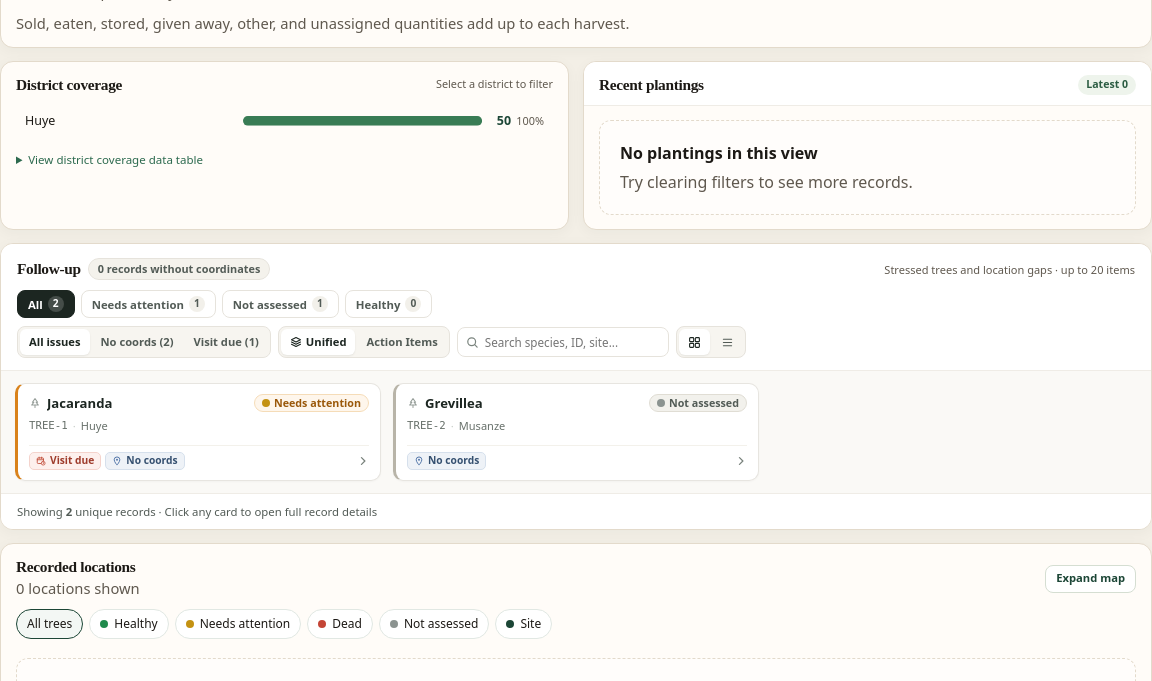
Test case: dashboard requests and role behavior › deduplicates follow-up items and toggles between unified, action items, search clear, and list view
(page scrolled)
expect the text "TREE-1" is shown once: met, box [29,418,68,434]
expect the number of buttons "Visit due (1)" is 2: met, box [184,329,268,355]; [29,452,101,470]
Note: Switching to Action Items expands to raw entries
Click the button "Action Items".
click(402, 342)  # box [358,329,447,355]
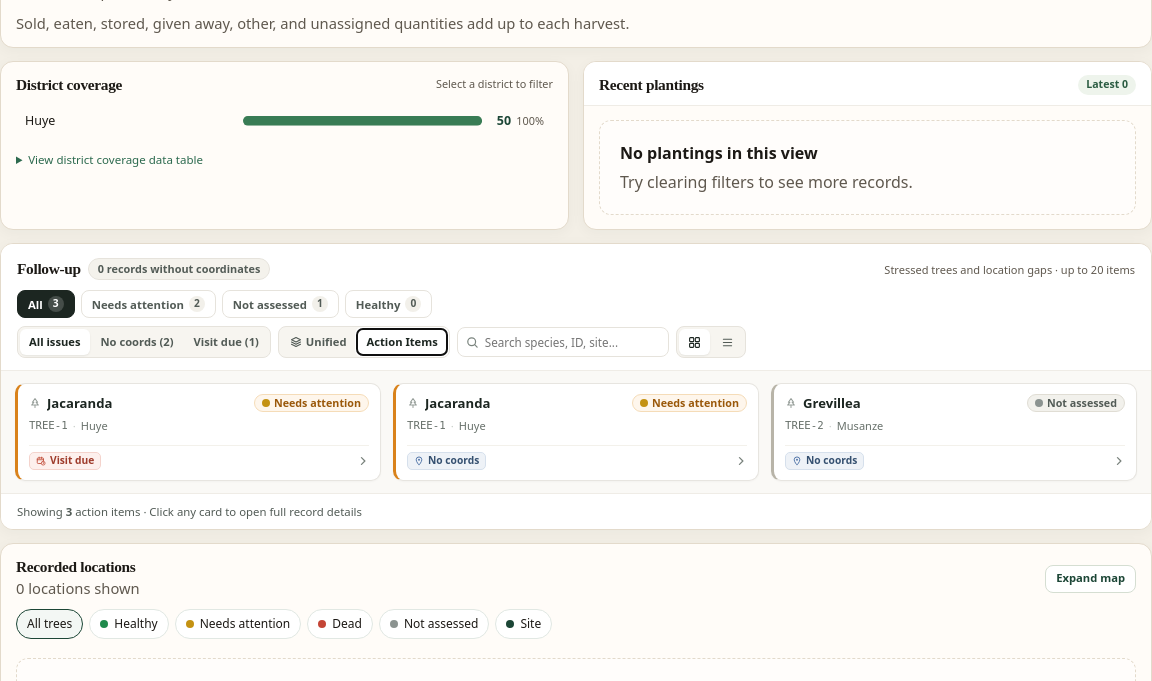
expect the text "TREE-1" is shown 2 times: met, box [29,418,68,434]; [407,418,446,434]
expect the text "action items · Click any card" shows "Showing 3 action items": met, box [17,503,362,520]
Note: Switching back collapses duplicates
Click the button "Unified".
click(318, 342)  # box [281,329,356,355]
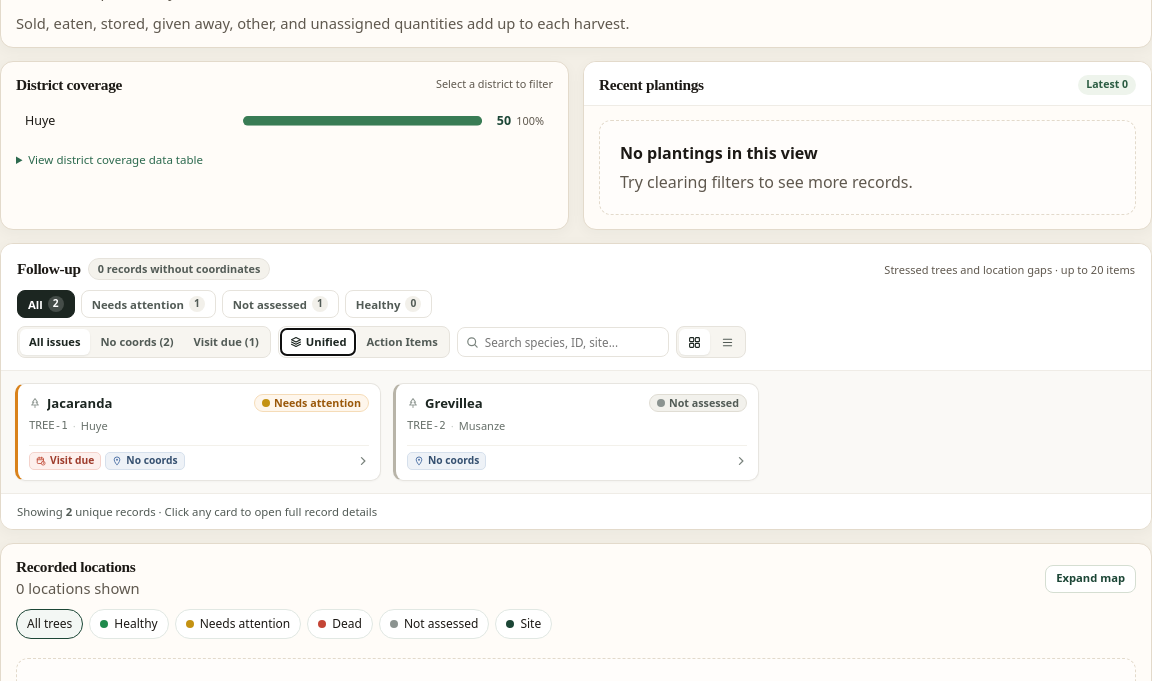
expect the text "TREE-1" is shown once: met, box [29,418,68,434]
Note: Search filters to Grevillea and inline clear restores all
Type "Musanze" into the field named "Search follow-up records".
click(563, 342); type("Musanze")  # box [457,327,669,357]
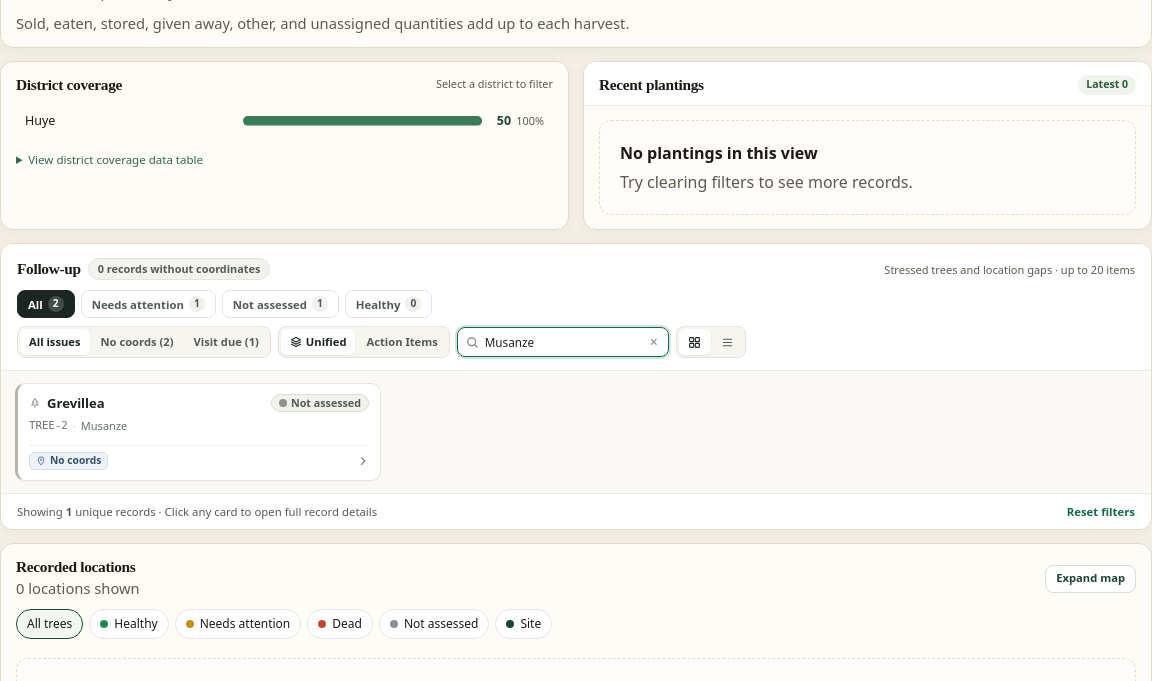
expect the text "TREE-2" is shown: met, box [29,418,68,434]
expect the link "TREE-1" is gone: met
Click the button named "Clear follow-up search".
click(654, 342)  # box [645,333,663,351]
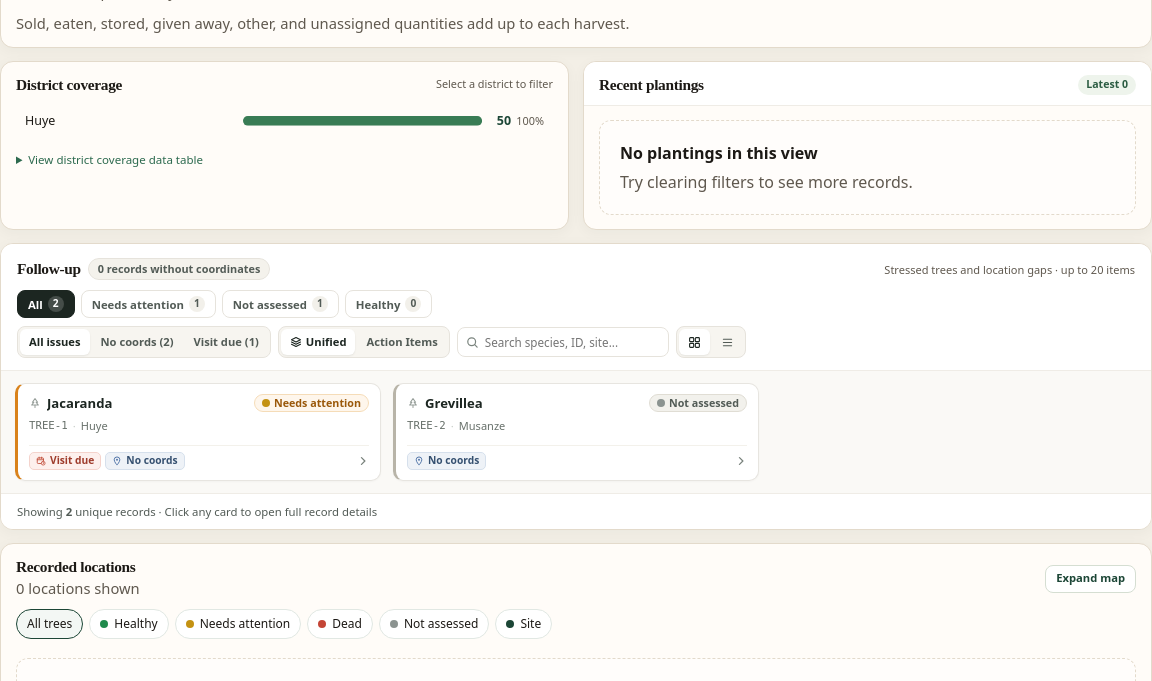
expect the text "TREE-1" is shown: met, box [29,418,68,434]
Note: Switch to list view
Click the button named "List view".
click(727, 342)  # box [712,329,743,355]
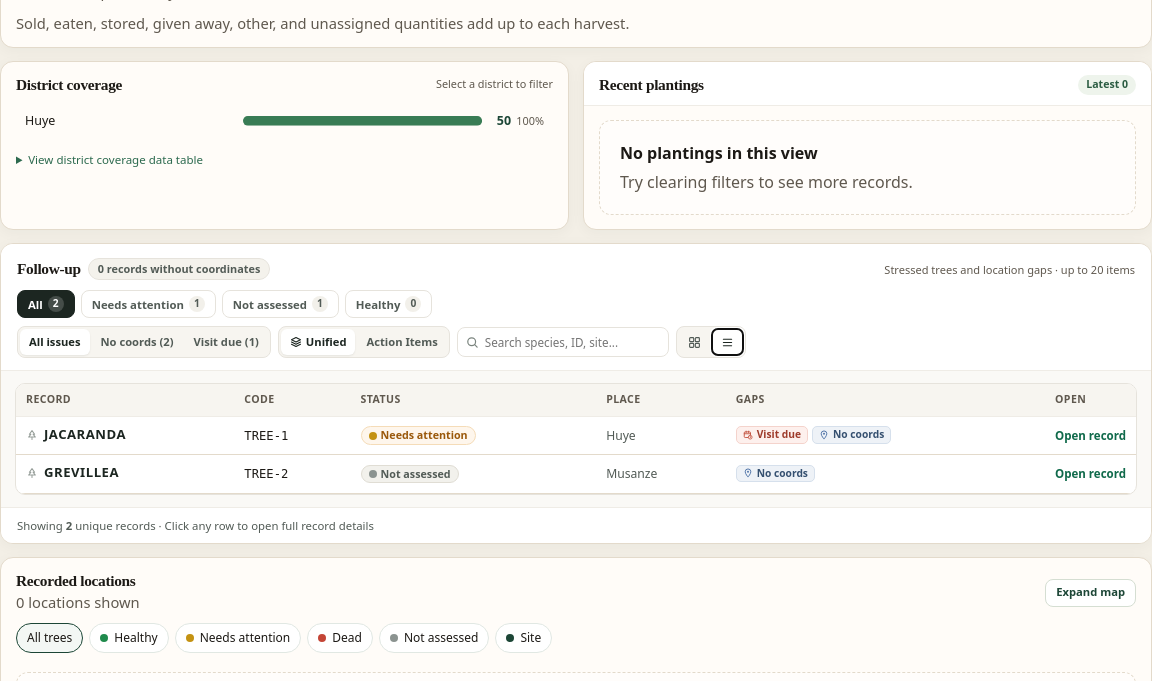
expect the table named "Follow-up records" is shown: met, box [16,384,1136,494]
